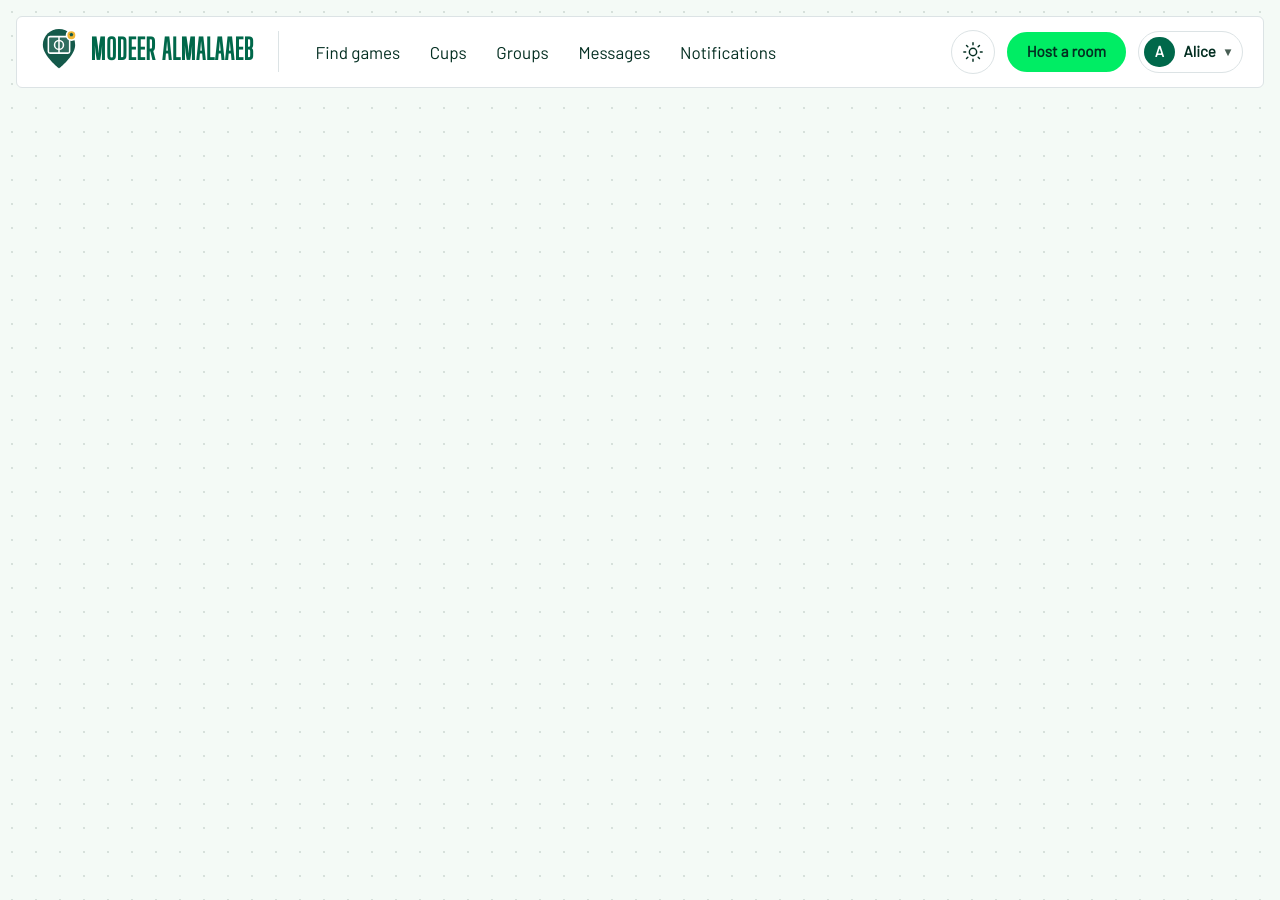
Test: navigation logout isolation › reports a failed logout to its current account and clears it after switching
Click the button "A Alice ▾". click: {"x": 1190, "y": 52}
box: [1138, 31, 1243, 73]
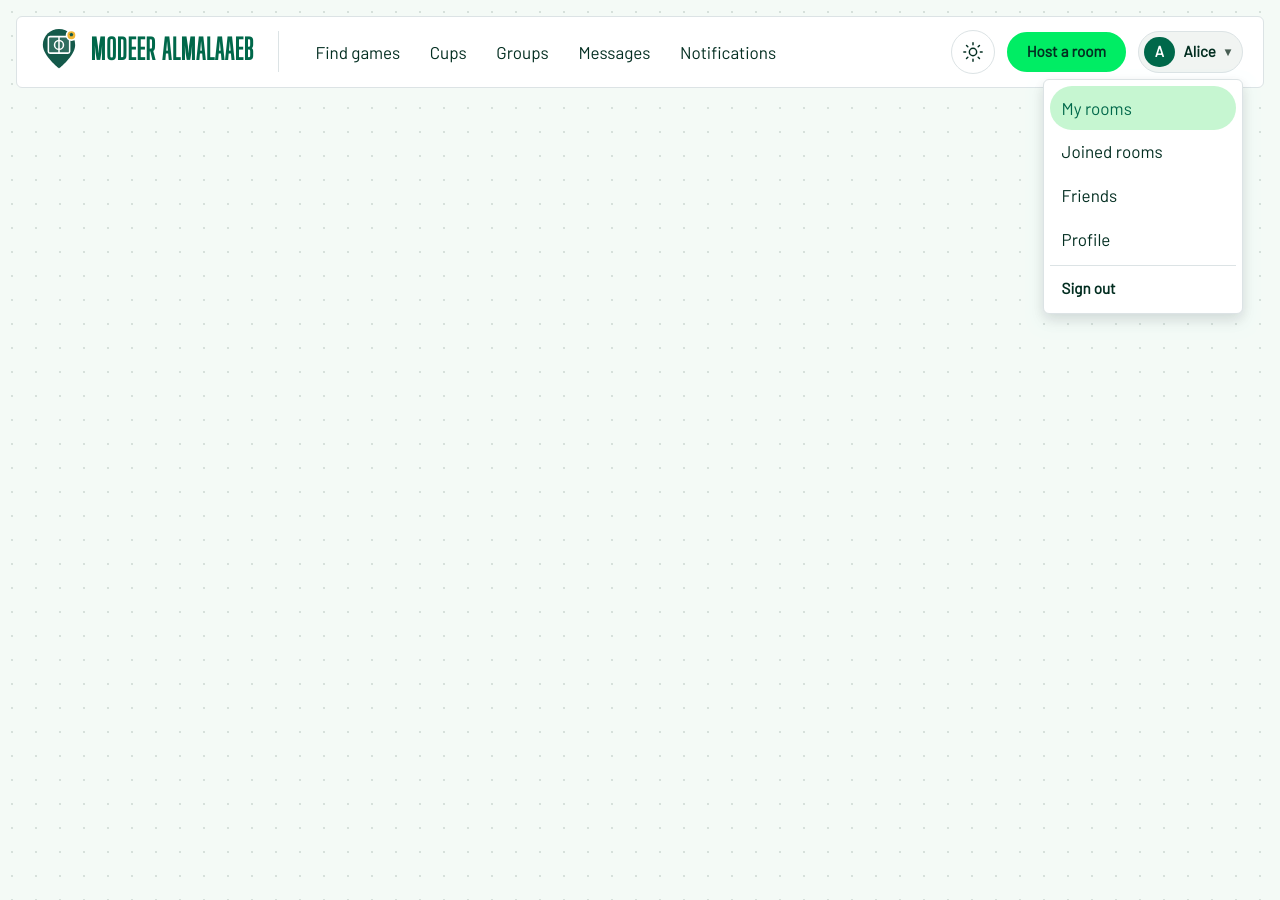
Click the menu item "Sign out". click: {"x": 1143, "y": 289}
box: [1050, 270, 1236, 308]
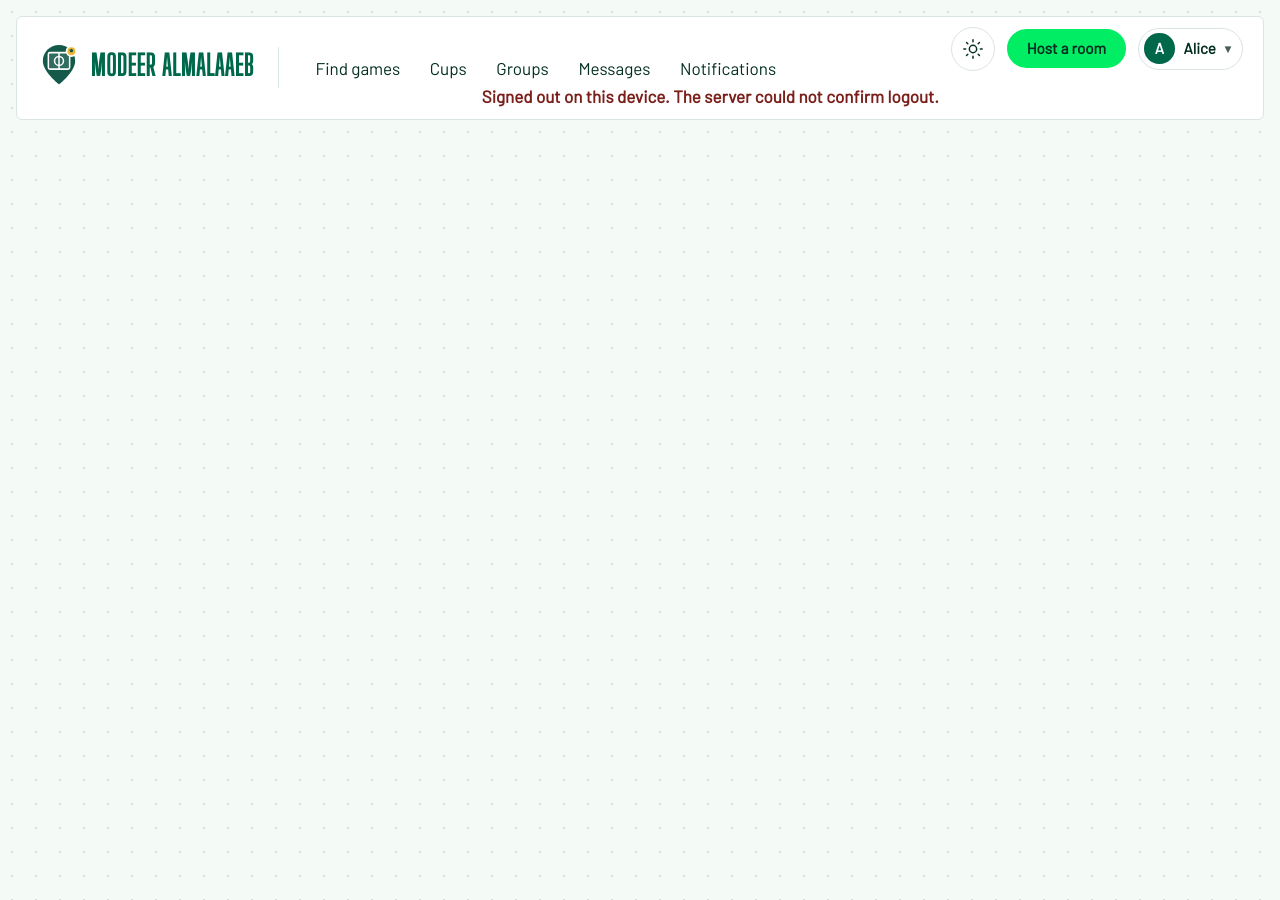
Now the message shows "The server could not confirm logout.", box [482, 86, 939, 106]
